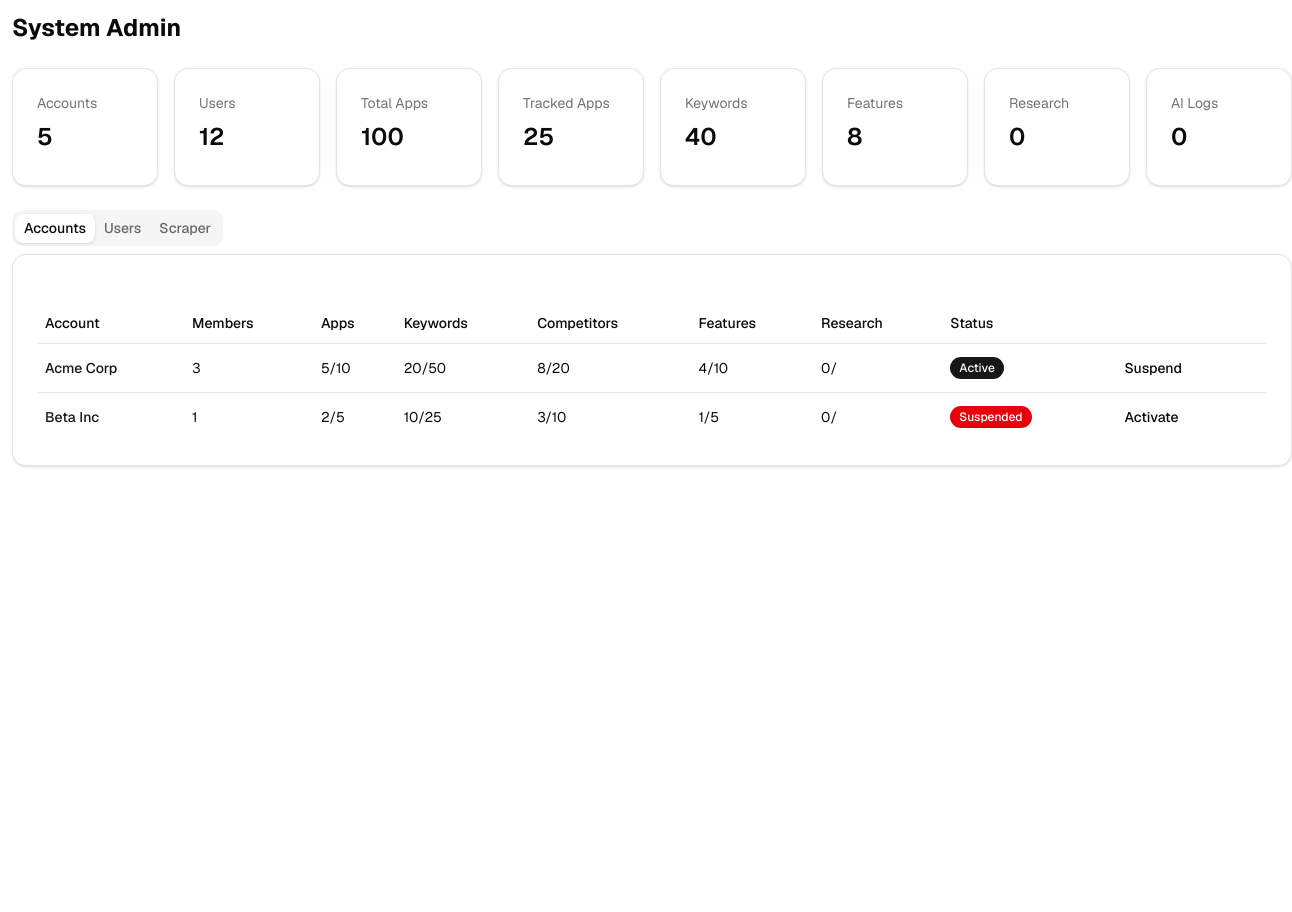
Test: SystemAdminPage › shows recent runs in scraper tab
This screenshot has width=1292, height=912.
Check: the link "Acme Corp" is shown, box [45,358,117,376]
Click the tab "Scraper" at (185, 228), box [150,214,220,242]
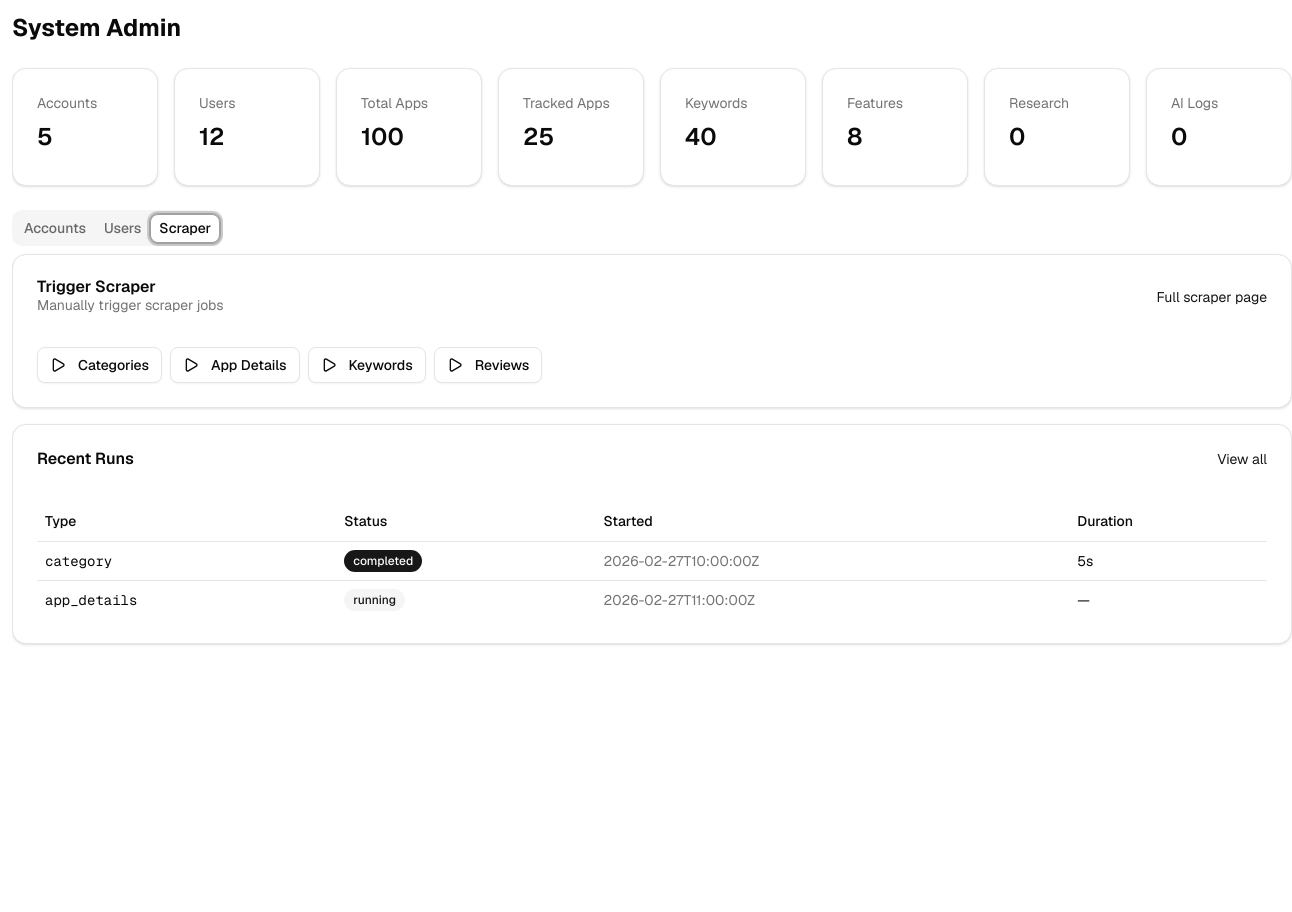
Check: the text "category" is shown, box [37,541,336,580]
Check: the text "app_details" is shown, box [37,580,336,618]
Check: the text "completed" is shown, box [344,550,422,572]
